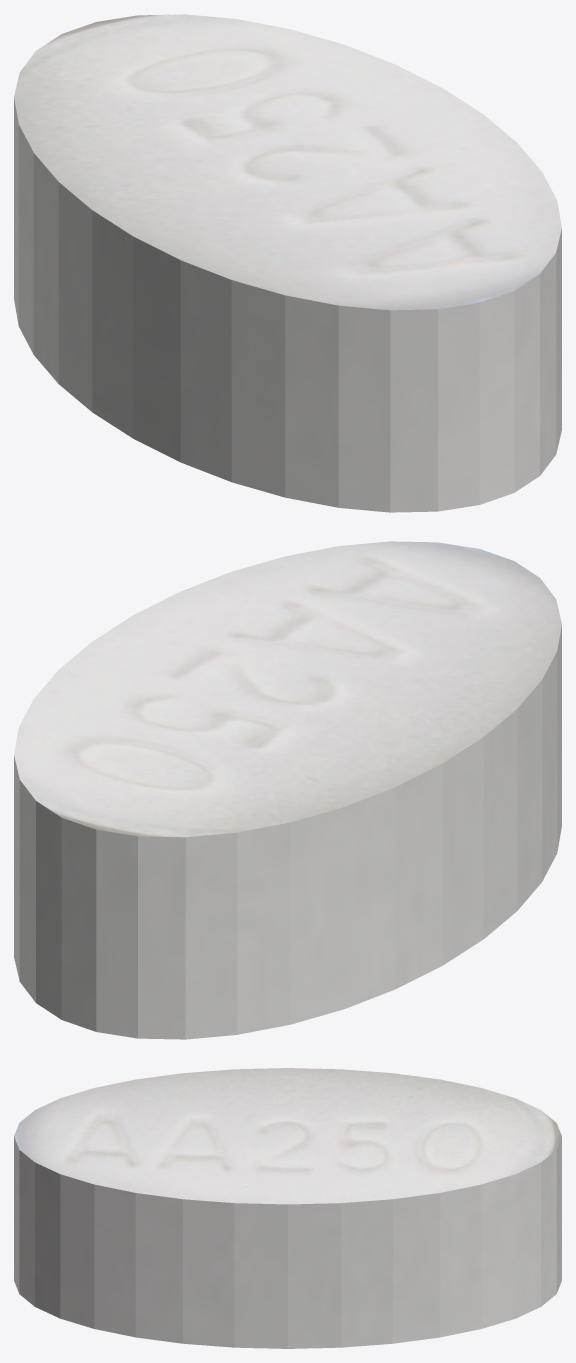
The picture shows the model from 3 angles, top to bottom: view 1: azimuth 30°, elevation 25°; view 2: azimuth 150°, elevation 25°; view 3: azimuth 270°, elevation 25°; orthographic projection. The views are drawn at different scales.
Parts seen in each view (by area): view 1: 圓柱體; view 2: 圓柱體; view 3: 圓柱體.
Boxes of the visible parts, <box> form: 圓柱體: <box>14,14,561,512</box>; 圓柱體: <box>14,541,561,1039</box>; 圓柱體: <box>14,1068,561,1348</box>.
Size of the model in its own units: 1 by 0.4957 by 1.7.
1 material, 1 textured.
